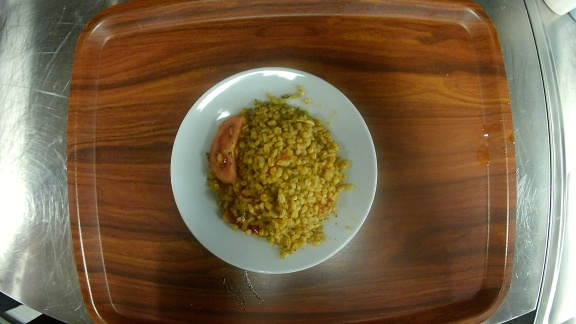bulgur: (170, 65, 378, 275)
